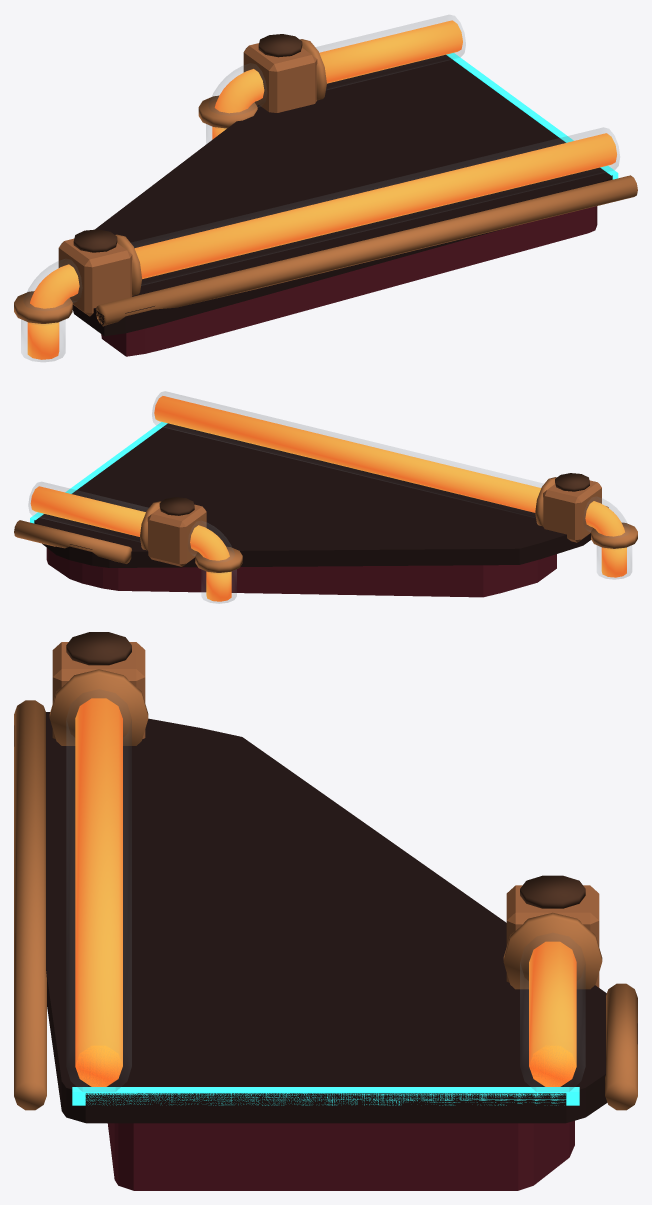
The model's file is Pier_Angled_65.glb.
The picture shows the model from 3 angles, top to bottom: view 1: azimuth 30°, elevation 25°; view 2: azimuth 150°, elevation 25°; view 3: azimuth 270°, elevation 25°; orthographic projection. The views are drawn at different scales.
Parts seen in each view (by area): view 1: CP_Pier_Angled_65; view 2: CP_Pier_Angled_65; view 3: CP_Pier_Angled_65.
Part boxes in pixels (box(x1,y1,x2,y2)): CP_Pier_Angled_65: box(14, 15, 637, 361); CP_Pier_Angled_65: box(14, 391, 637, 603); CP_Pier_Angled_65: box(14, 632, 637, 1190).
Size of the model in its own units: 6.73 by 1.31 by 4.18.
